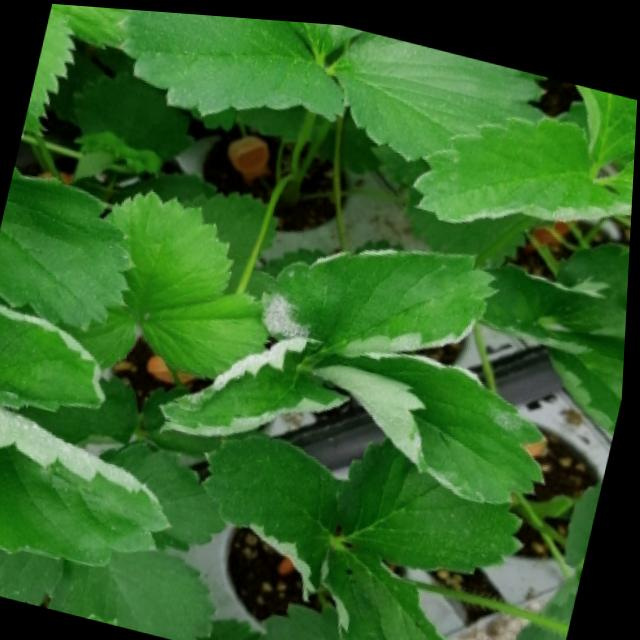Powdery Mildew Leaf: (310, 342, 551, 497), (0, 403, 177, 566), (261, 240, 502, 347), (410, 103, 634, 217), (161, 330, 357, 432), (0, 300, 112, 412), (575, 74, 638, 161)
